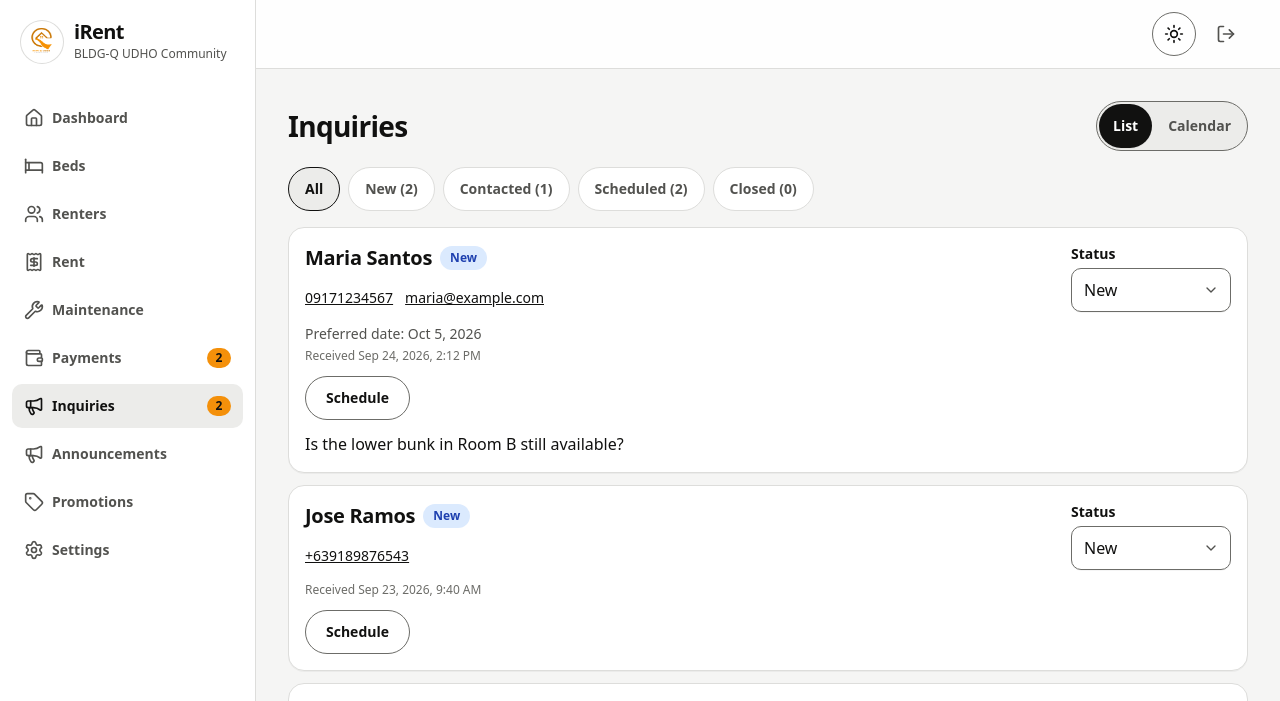
Test case: AdminInquiriesPage (F20, R40, SC-41) › filters by chip and shows the filtered empty state (SC-41 step 3)
This screenshot has width=1280, height=701.
Expected: the heading "Maria Santos" is shown, [305,244,432,272]
Click the button "Contacted (1)" at [506, 189], box [443,167,570,211]
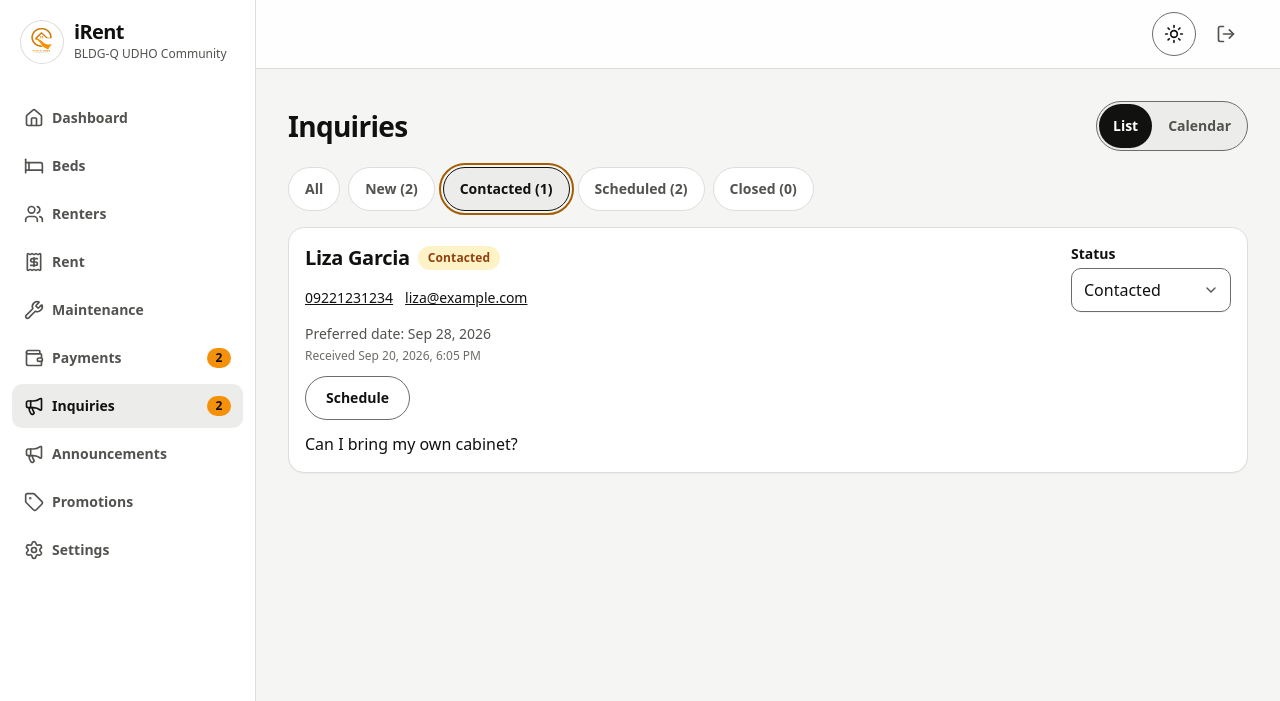
Click the button "Closed (0)" at [763, 189], box [713,167,814,211]
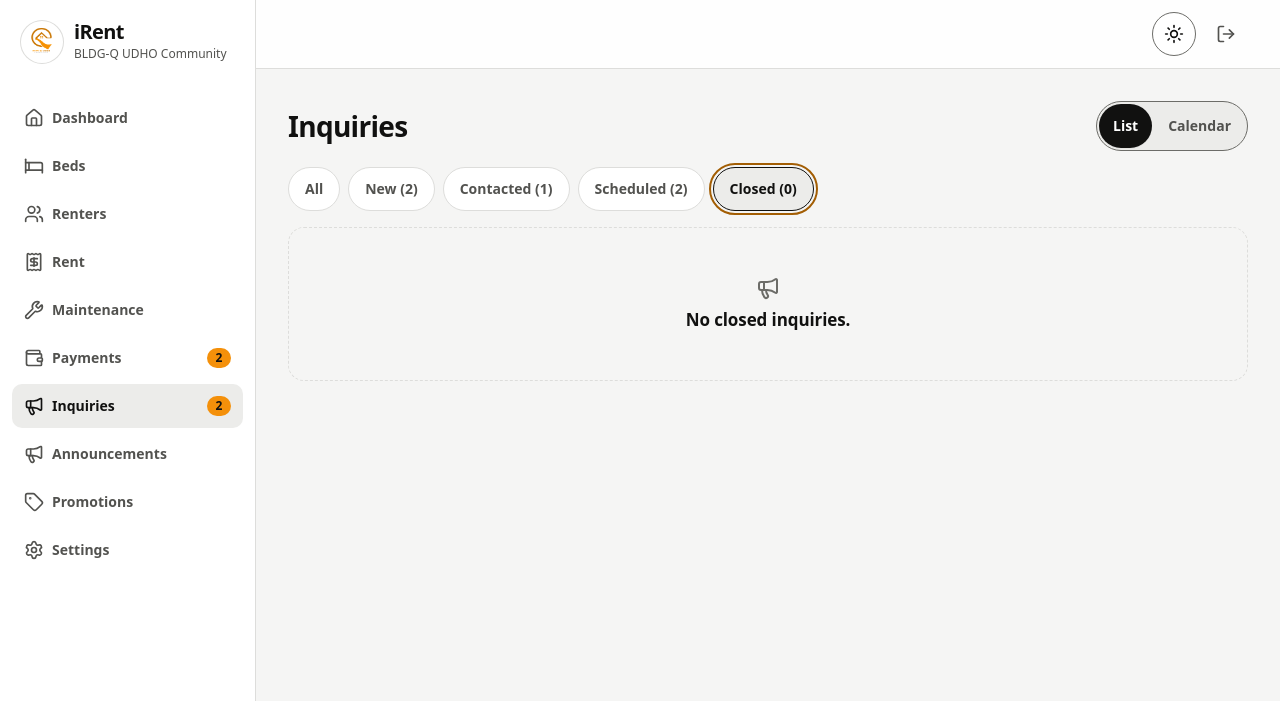
Now the text "No closed inquiries." is shown, box [686,308,850,332]
